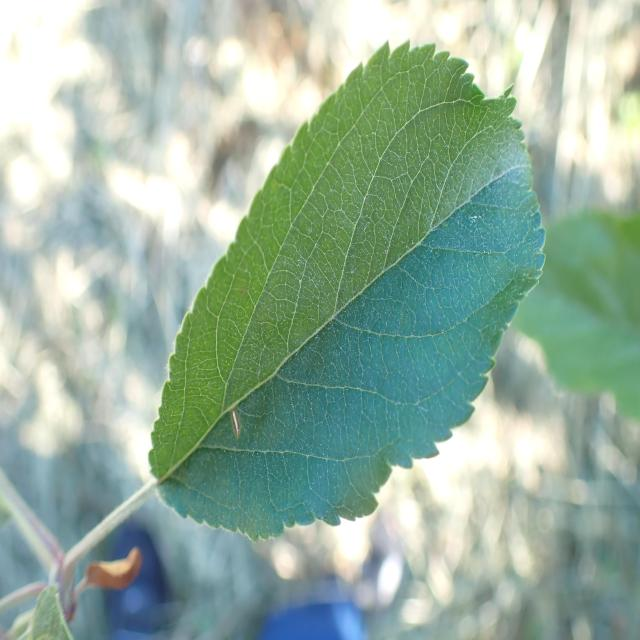healthy: (150, 36, 547, 542)
